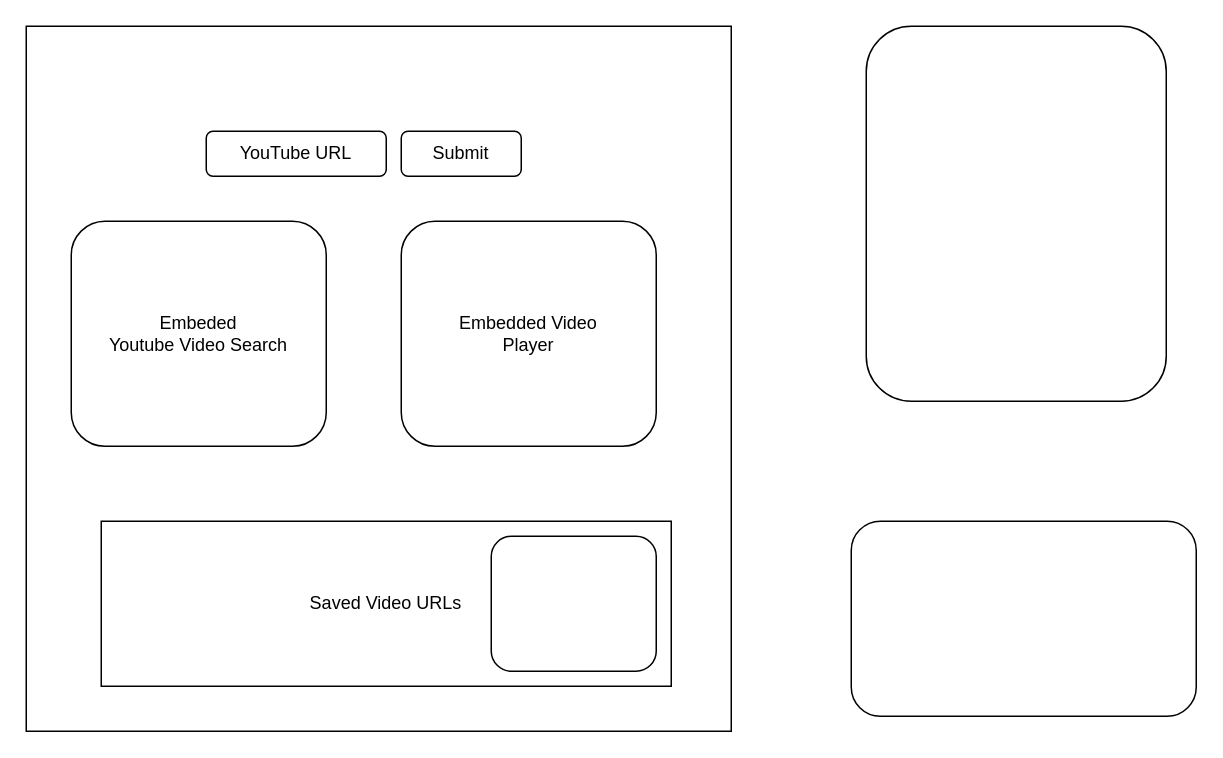
Some shapes in this 1223 by 758 pixel diagram are drawn without their labels. The centre of each missing label's shape, as x and y in pixels:
"Login Functionality" belongs at pixel 1015 213.
"Stripe Function Subscription based" belongs at pixel 1023 618.
"URL Controls add/delete" belongs at pixel 573 603.
